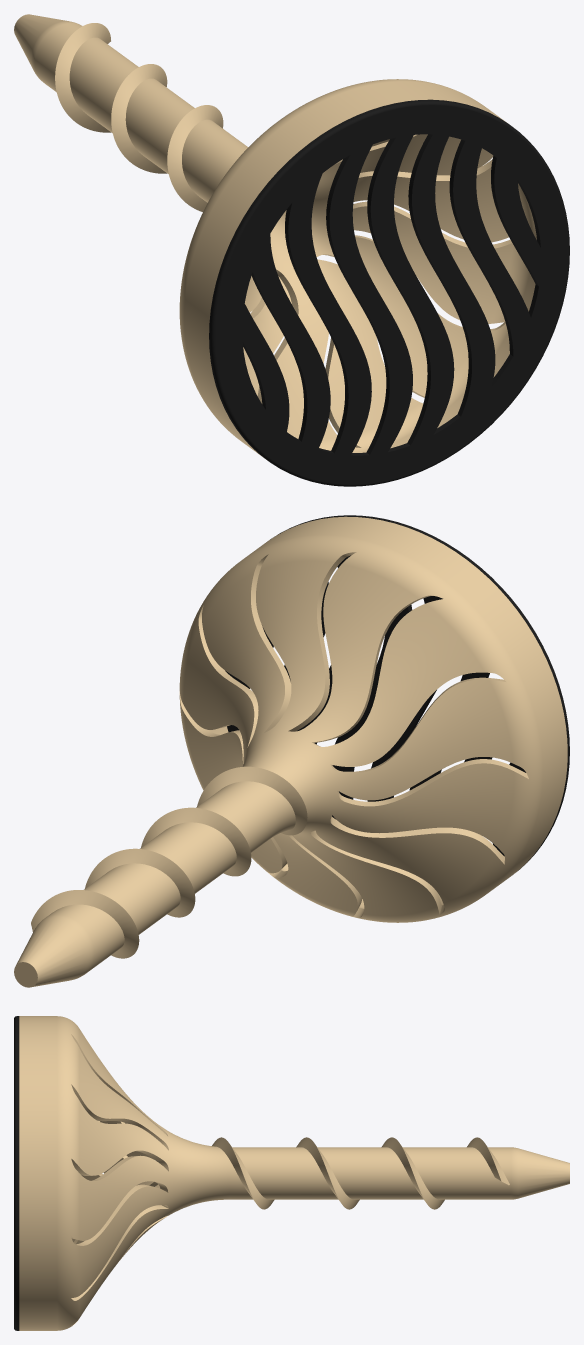
The model's file is zeedle.obj.
The picture shows the model from 3 angles, top to bottom: view 1: azimuth 30°, elevation 25°; view 2: azimuth 150°, elevation 25°; view 3: azimuth 270°, elevation 25°; orthographic projection. The views are drawn at different scales.
Parts seen in each view (by area): view 1: Lid, base; view 2: base, Lid; view 3: base, Lid.
Part boxes in pixels (box(x1,y1,x2,y2)): Lid: box(209, 99, 569, 486); base: box(14, 14, 536, 456); base: box(14, 516, 567, 987); Lid: box(225, 515, 569, 870); base: box(19, 1016, 569, 1330); Lid: box(14, 1016, 19, 1330).
Bounding box in the file's own units: 120 × 120 × 212.
